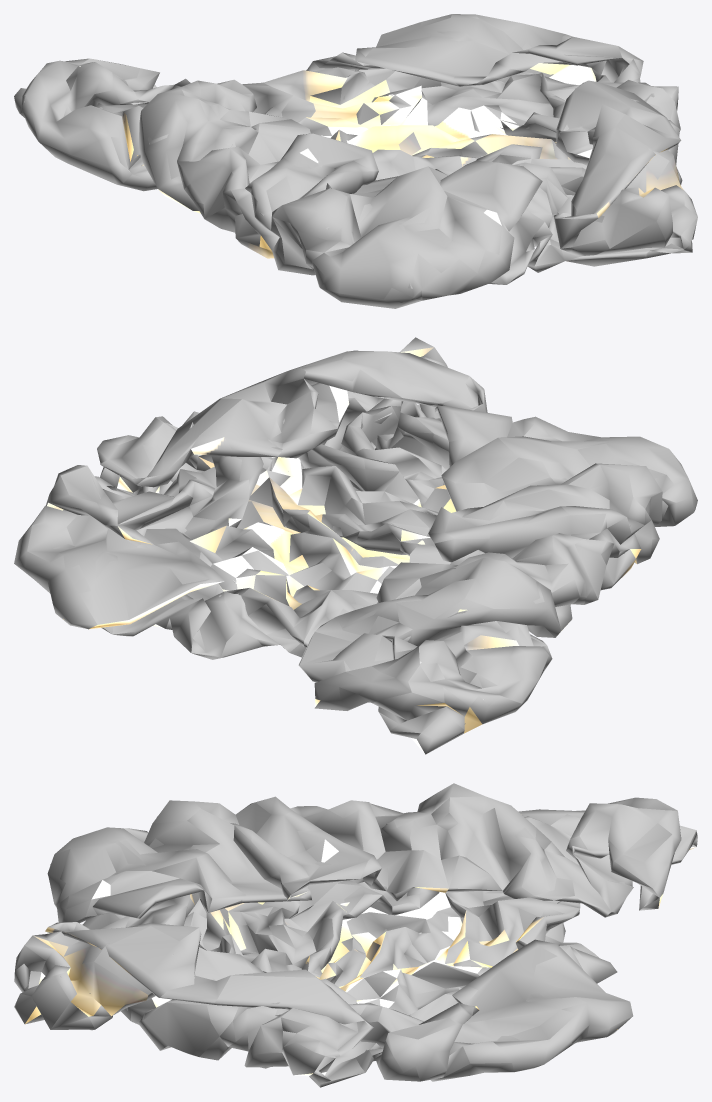
The model's file is SM_Rag_01b.fbx.
The picture shows the model from 3 angles, top to bottom: view 1: azimuth 30°, elevation 25°; view 2: azimuth 150°, elevation 25°; view 3: azimuth 270°, elevation 25°; orthographic projection. The views are drawn at different scales.
Parts seen in each view (by area): view 1: SM_Rag_01b_LOD0; view 2: SM_Rag_01b_LOD0; view 3: SM_Rag_01b_LOD0.
Part boxes in pixels (x1,y1,x2,y2): SM_Rag_01b_LOD0: (14,14,697,308); SM_Rag_01b_LOD0: (14,337,697,754); SM_Rag_01b_LOD0: (14,783,697,1087).
Size of the model in its own units: 37.31 by 41.02 by 6.8.
